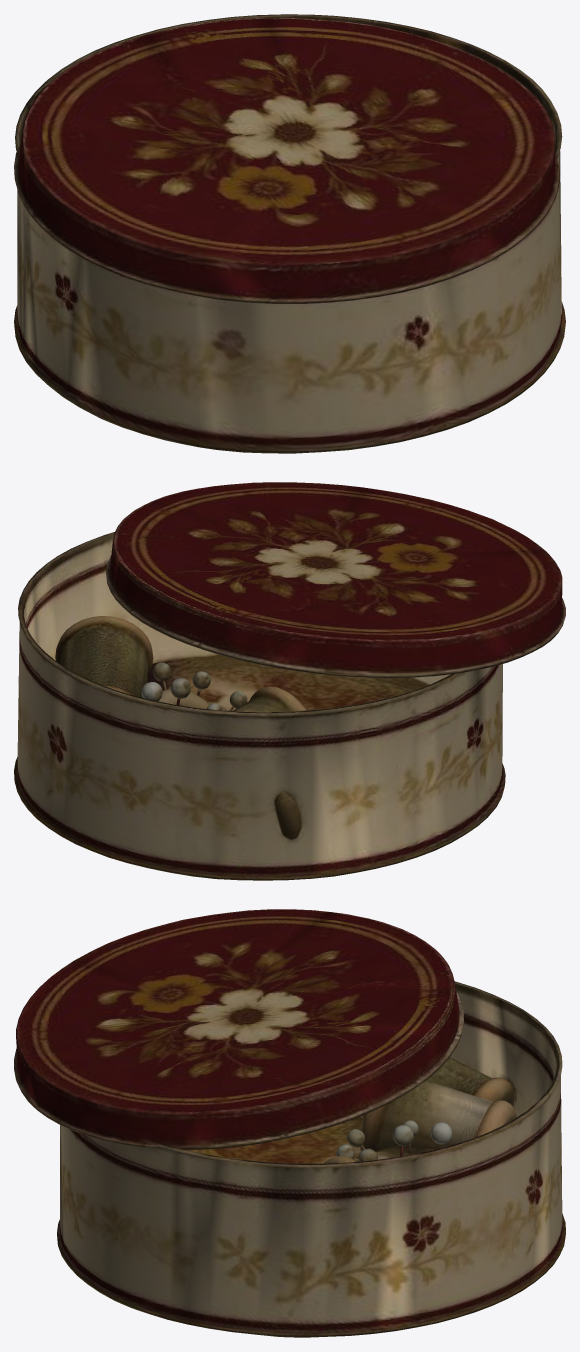
Rendered from sewing-tin.glb.
The picture shows the model from 3 angles, top to bottom: view 1: azimuth 30°, elevation 25°; view 2: azimuth 150°, elevation 25°; view 3: azimuth 270°, elevation 25°; orthographic projection. The views are drawn at different scales.
Visible parts, largest first — view 1: tripo_node_e7c65ee8-c5af-4bcc-841c-ebf58d620a98; view 2: tripo_node_e7c65ee8-c5af-4bcc-841c-ebf58d620a98; view 3: tripo_node_e7c65ee8-c5af-4bcc-841c-ebf58d620a98.
Part boxes in pixels (bbox=[...]): tripo_node_e7c65ee8-c5af-4bcc-841c-ebf58d620a98: bbox=[14, 14, 565, 453]; tripo_node_e7c65ee8-c5af-4bcc-841c-ebf58d620a98: bbox=[14, 482, 565, 880]; tripo_node_e7c65ee8-c5af-4bcc-841c-ebf58d620a98: bbox=[14, 909, 565, 1337].
Size of the model in its own units: 0.2353 by 0.1115 by 0.24.
1 material, 1 textured.
